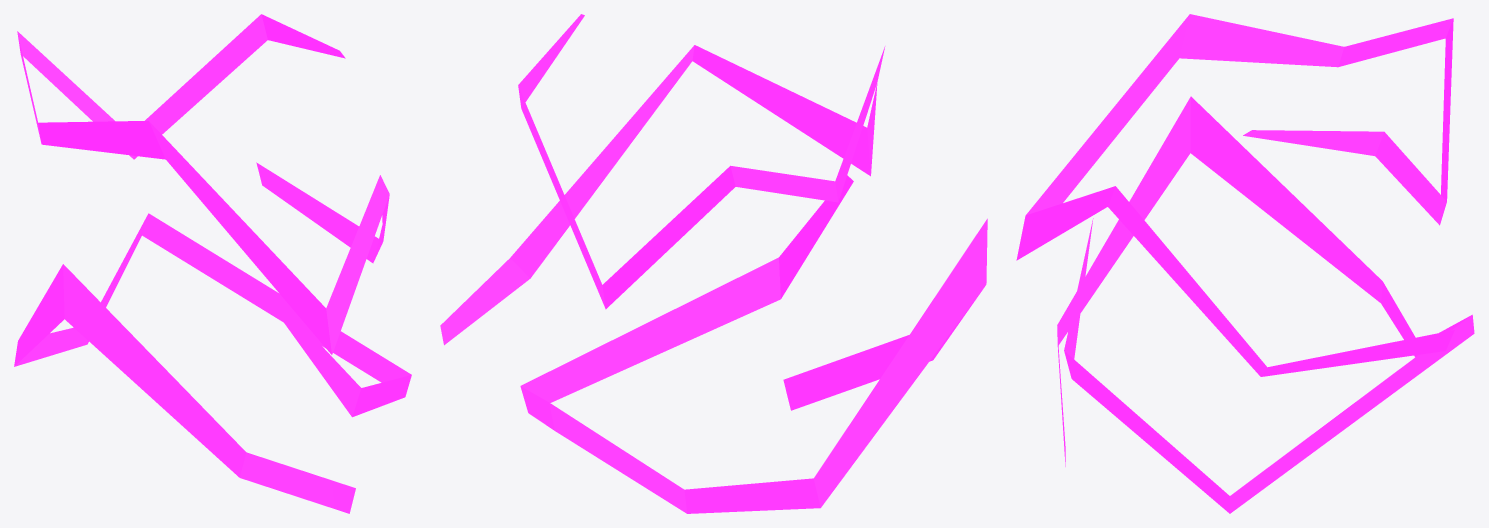
The model's file is ghost_electric.glb.
The picture shows the model from 3 angles, left to right: view 1: azimuth 30°, elevation 25°; view 2: azimuth 150°, elevation 25°; view 3: azimuth 270°, elevation 25°; orthographic projection. The views are drawn at different scales.
Parts seen in each view (by area): view 1: electric; view 2: electric; view 3: electric.
Boxes of the visible parts, <box> form: electric: <box>14,14,411,513</box>; electric: <box>440,14,987,513</box>; electric: <box>1016,14,1474,513</box>.
Size of the model in its own units: 1.67 by 1.66 by 1.78.
